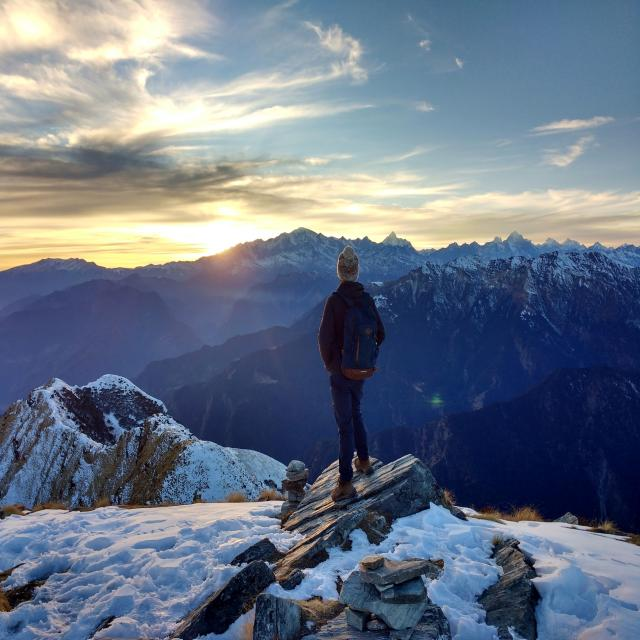adult: (317, 244, 383, 505)
